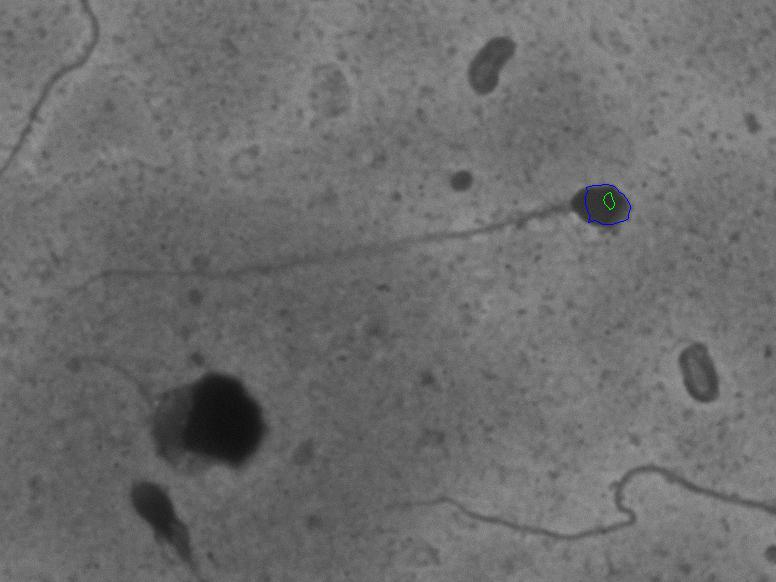Abnormal: (74, 145, 656, 331)
